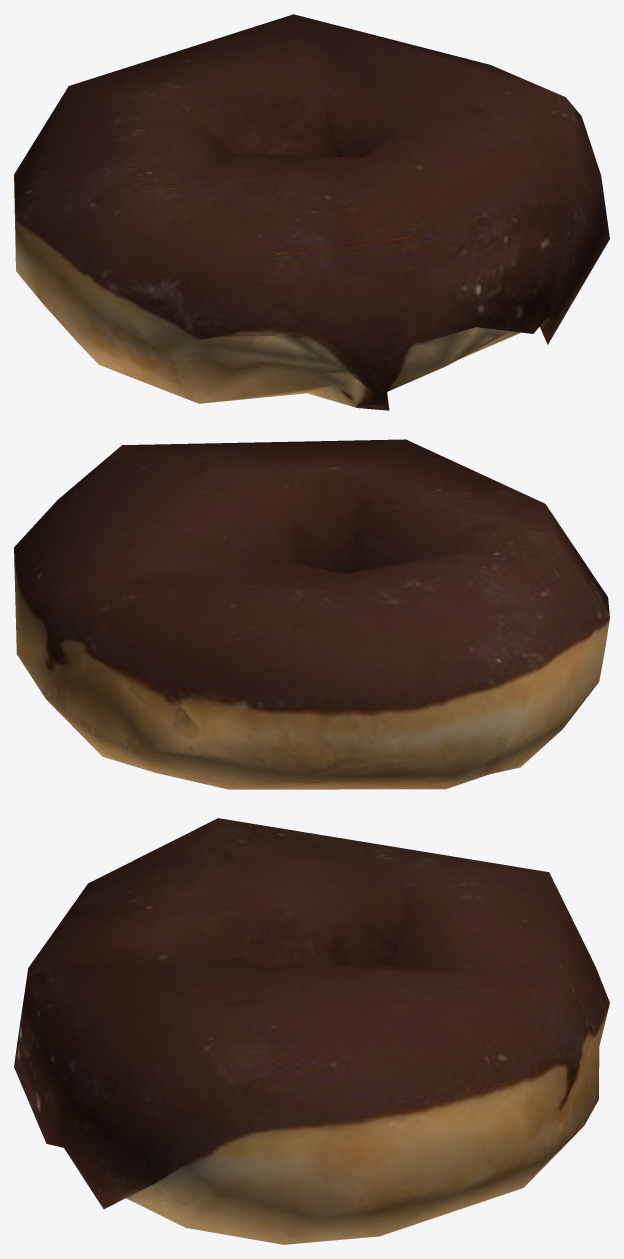
File: donut_vcckafl_low.glb
The picture shows the model from 3 angles, top to bottom: view 1: azimuth 30°, elevation 25°; view 2: azimuth 150°, elevation 25°; view 3: azimuth 270°, elevation 25°; orthographic projection. The views are drawn at different scales.
Parts seen in each view (by area): view 1: vcckafl_LOD0_TIER3_000; view 2: vcckafl_LOD0_TIER3_000; view 3: vcckafl_LOD0_TIER3_000.
Boxes of the visible parts, x1,y1,x2,y2 form: vcckafl_LOD0_TIER3_000: [14, 14, 609, 410]; vcckafl_LOD0_TIER3_000: [14, 439, 609, 789]; vcckafl_LOD0_TIER3_000: [14, 818, 609, 1244].
Bounding box in the file's own units: 0.0893 × 0.0331 × 0.0812.
1 material, 1 textured.
